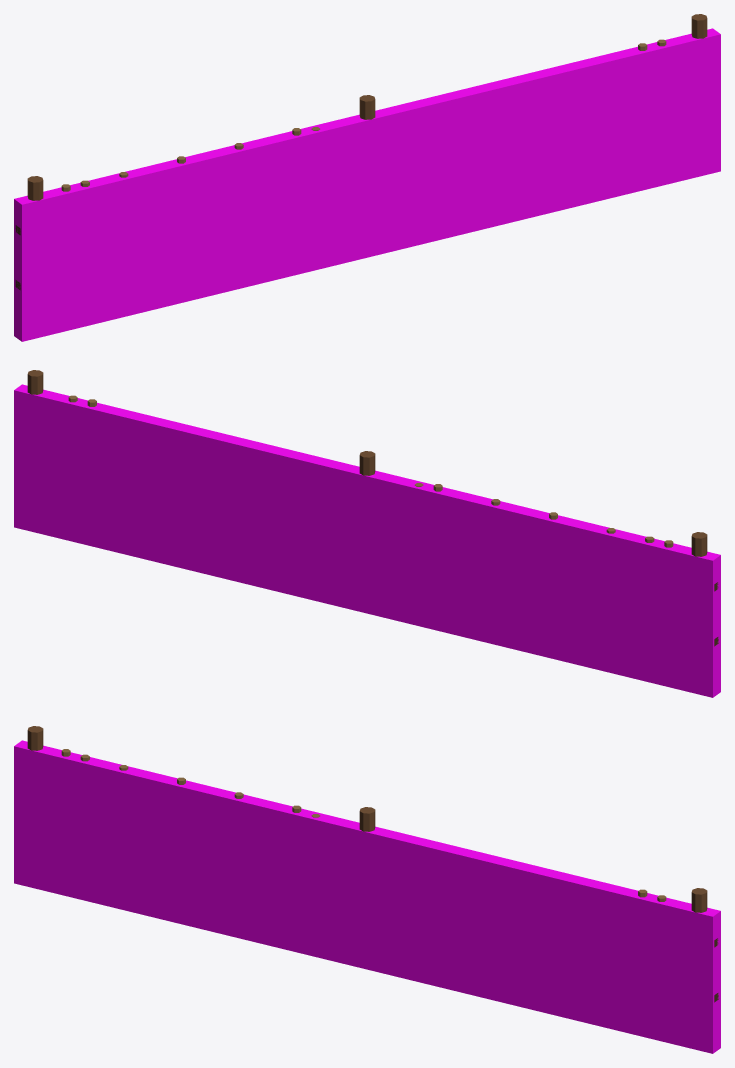
The model's file is barrio-abajo-cerca-cana.glb.
3 renders of one model, top to bottom at view 1: azimuth 30°, elevation 25°; view 2: azimuth 150°, elevation 25°; view 3: azimuth 330°, elevation 25°, orthographic.
Visible parts, largest first — view 1: COL_Cerca, cerca_cana_Madera, cerca_cana_CanaBrava; view 2: COL_Cerca, cerca_cana_Madera, cerca_cana_CanaBrava; view 3: COL_Cerca, cerca_cana_Madera, cerca_cana_CanaBrava.
Part boxes in pixels (x1,y1,x2,y2): COL_Cerca: (14,28,720,341); cerca_cana_Madera: (27,14,707,200); cerca_cana_CanaBrava: (61,39,666,191); COL_Cerca: (14,384,720,697); cerca_cana_Madera: (27,370,707,556); cerca_cana_CanaBrava: (68,395,673,547); COL_Cerca: (14,740,720,1053); cerca_cana_Madera: (27,726,707,912); cerca_cana_CanaBrava: (61,749,666,901).
Size of the model in its own units: 8 by 1.7 by 0.16.
